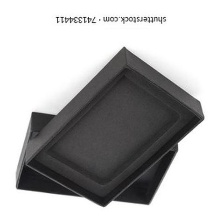foam_box: (21, 43, 209, 210), (12, 108, 182, 210)
